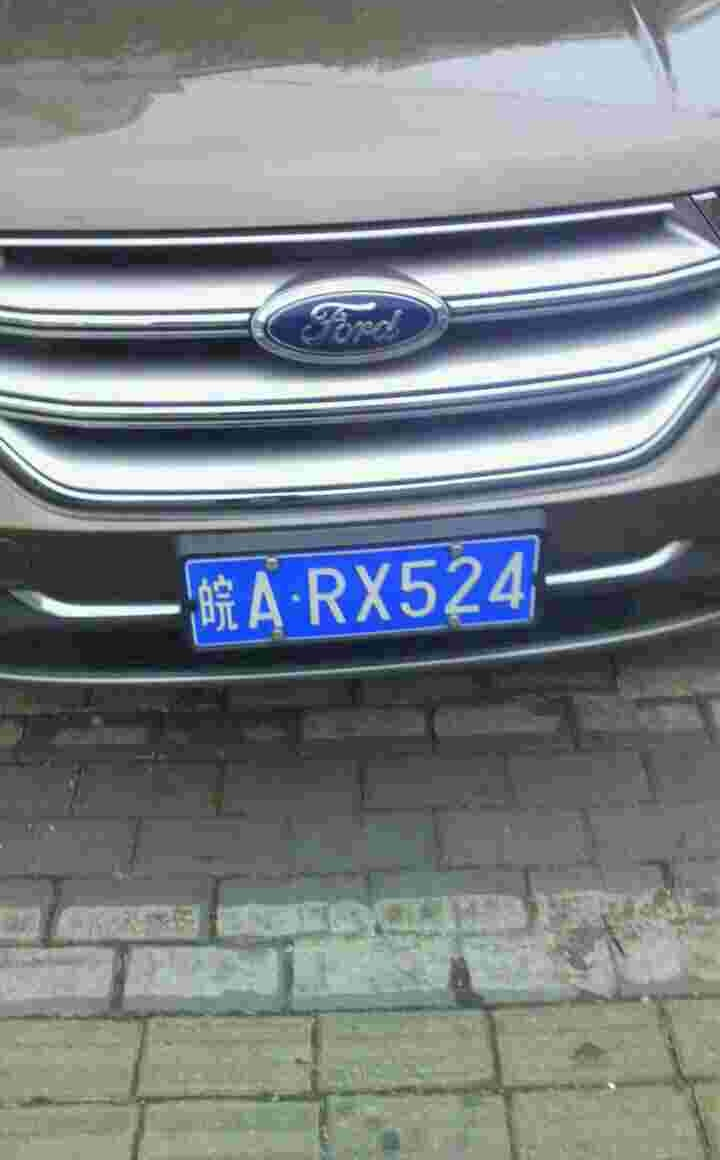license_plate: (191, 530, 554, 645)
